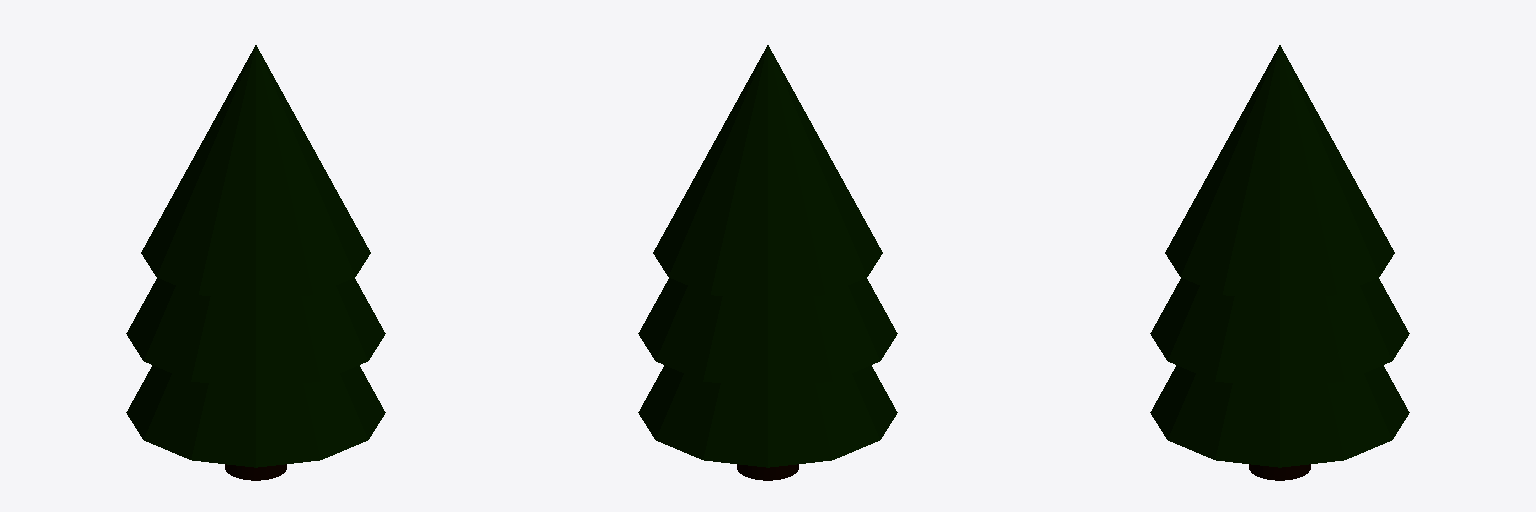
File: tree.obj
The picture shows the model from 3 angles: view 1: azimuth 30°, elevation 25°; view 2: azimuth 150°, elevation 25°; view 3: azimuth 270°, elevation 25°; orthographic projection.
Visible parts, largest first — view 1: Cone; view 2: Cone; view 3: Cone.
Boxes of the visible parts, <box> form: Cone: <box>126,45,385,480</box>; Cone: <box>638,45,897,480</box>; Cone: <box>1150,45,1409,480</box>.
Bounding box in the file's own units: 5.96 × 10.72 × 5.96.